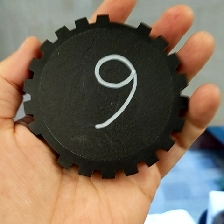gear: (21, 12, 191, 181)
missing: (27, 118, 74, 170), (95, 12, 152, 37)
